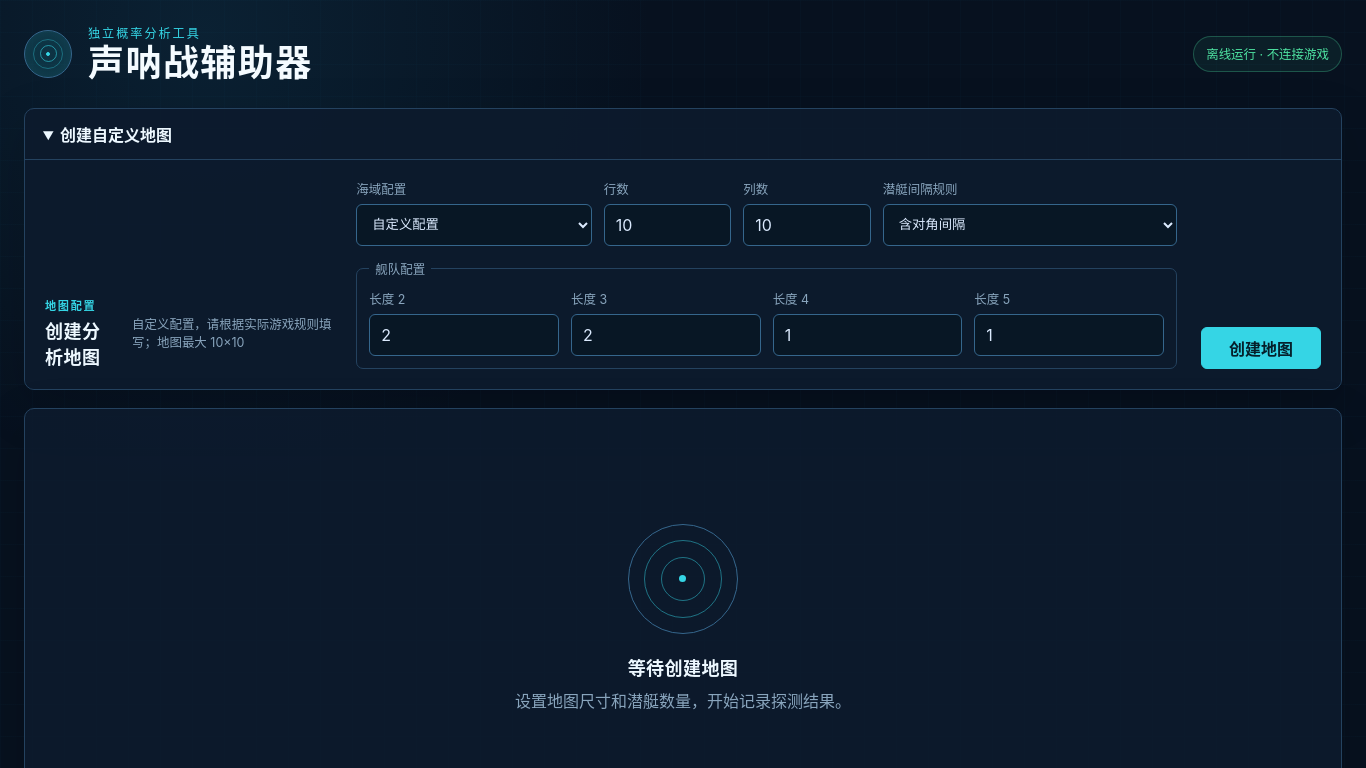
App › 显示中文输入错误且不创建地图
Clear the number field labelled "行数" at (667, 225), box [604, 204, 731, 246]
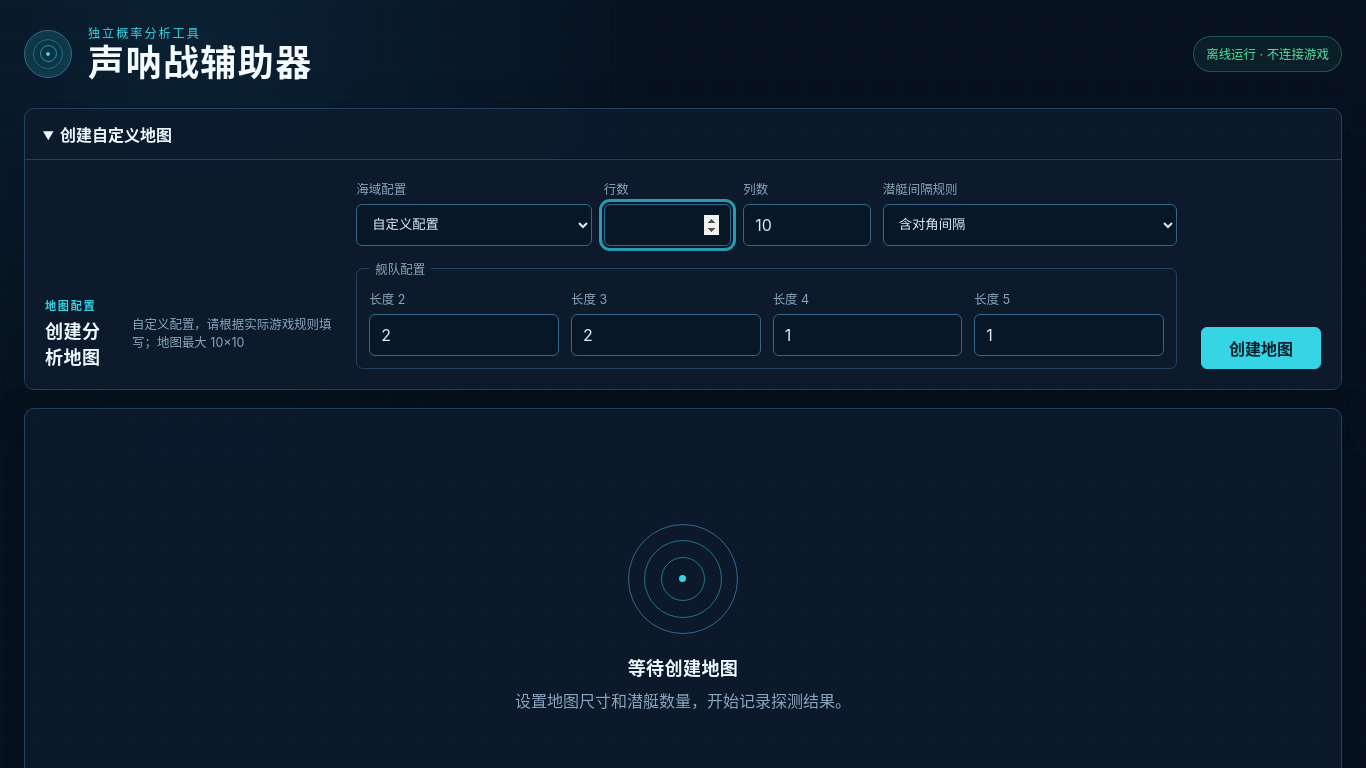
Click the button "创建地图" at (1261, 348), box [1201, 327, 1321, 369]
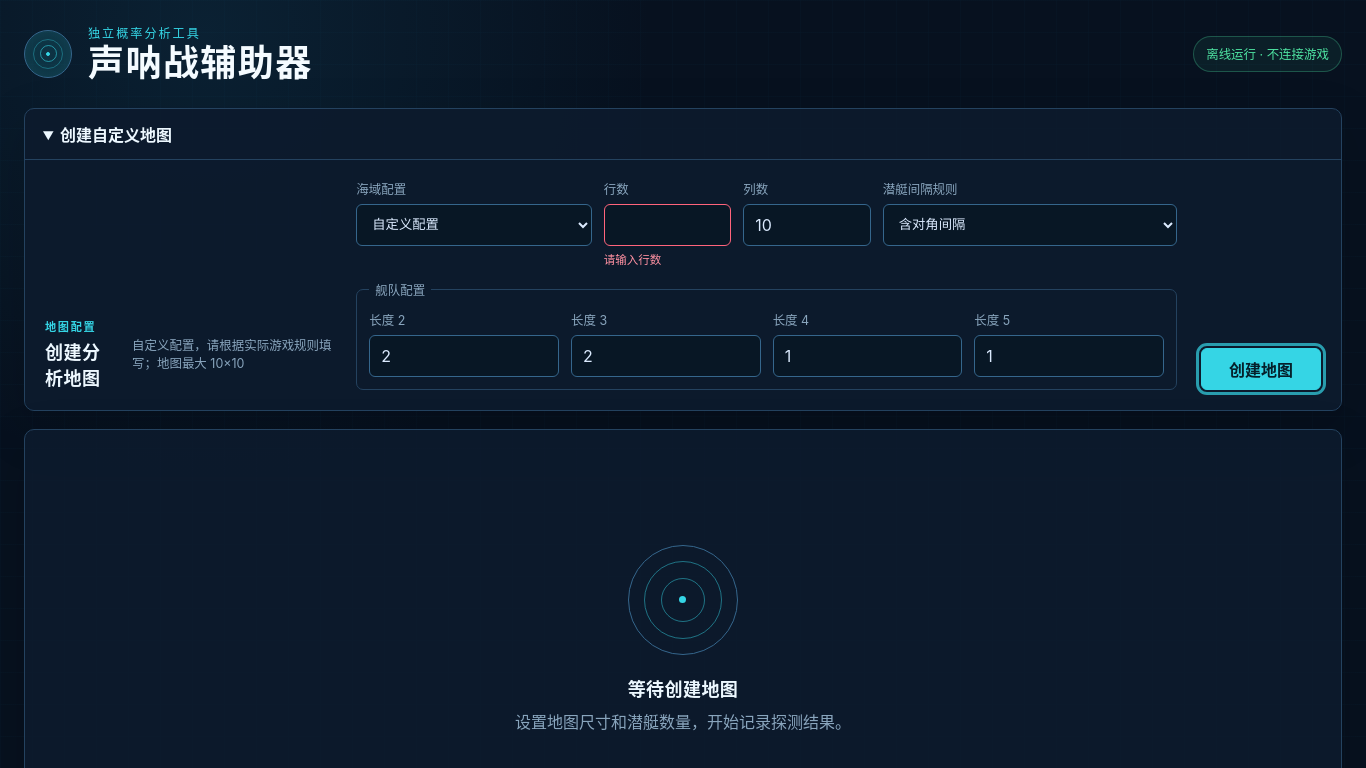
Expected: the text "请输入行数" is shown, [604, 253, 661, 267]
